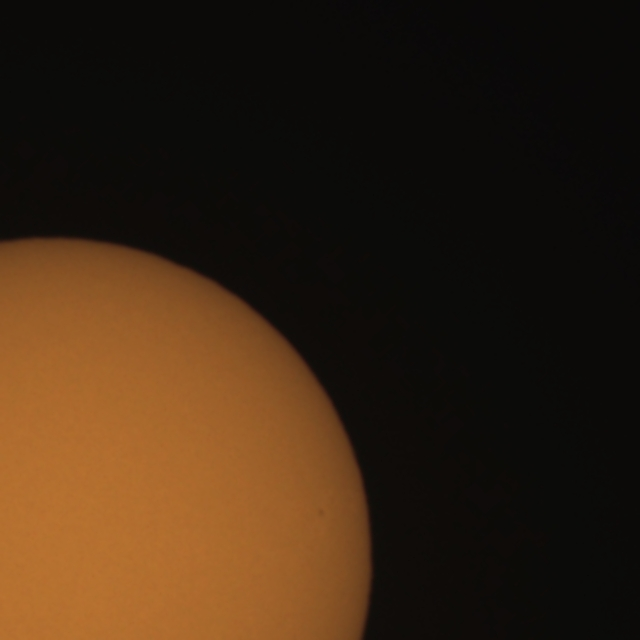sunspot: (315, 506, 327, 521)
